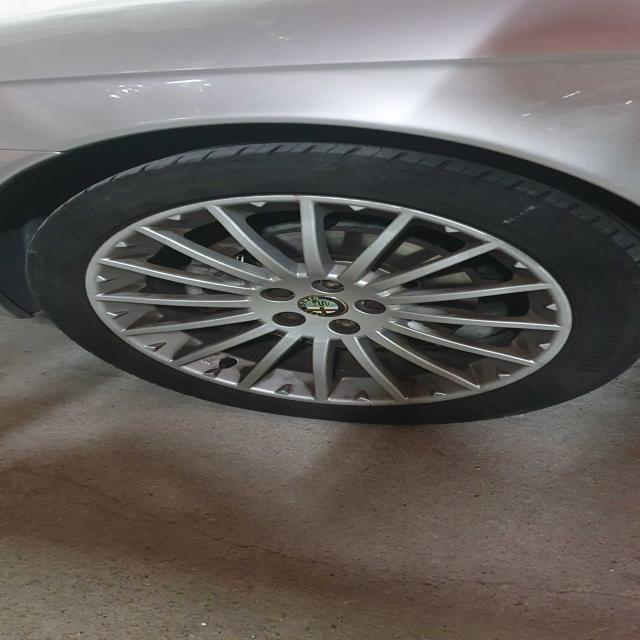jante: (84, 193, 575, 407)
parafuso: (272, 310, 307, 326), (329, 318, 359, 334), (357, 298, 385, 312), (316, 279, 344, 291), (268, 288, 296, 298)
roda: (22, 134, 640, 426)
